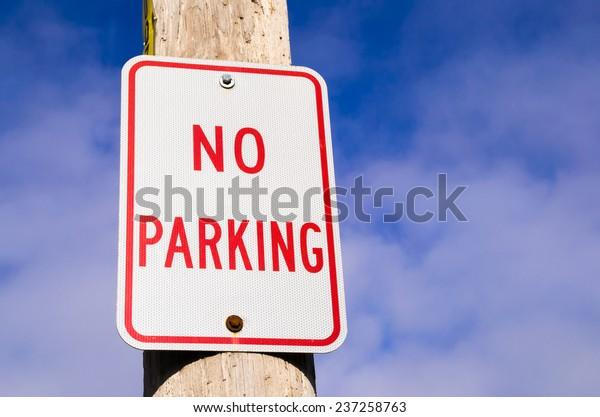No Parking: (123, 110, 335, 289)
